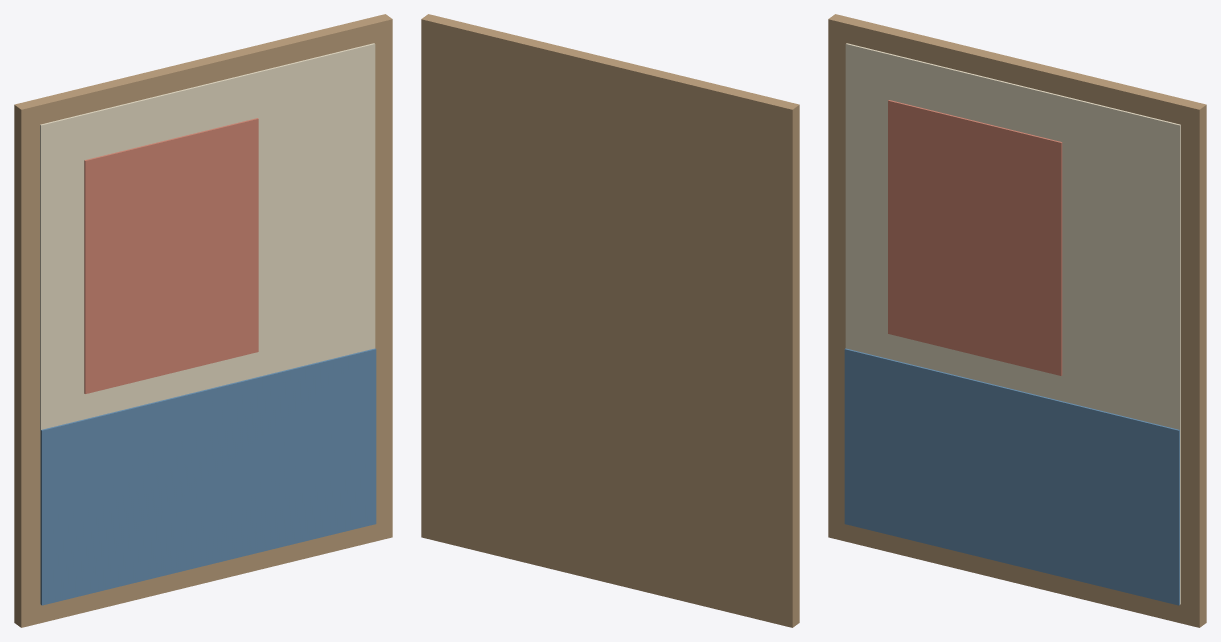
File: own_picture.glb
The picture shows the model from 3 angles, left to right: view 1: azimuth 30°, elevation 25°; view 2: azimuth 150°, elevation 25°; view 3: azimuth 330°, elevation 25°; orthographic projection.
Parts seen in each view (by area): view 1: model; view 2: model; view 3: model.
Boxes of the visible parts, x1,y1,x2,y2 form: model: (14, 14, 392, 627); model: (421, 14, 799, 627); model: (828, 14, 1206, 627).
Bounding box in the file's own units: 0.6 × 0.8 × 0.026.
